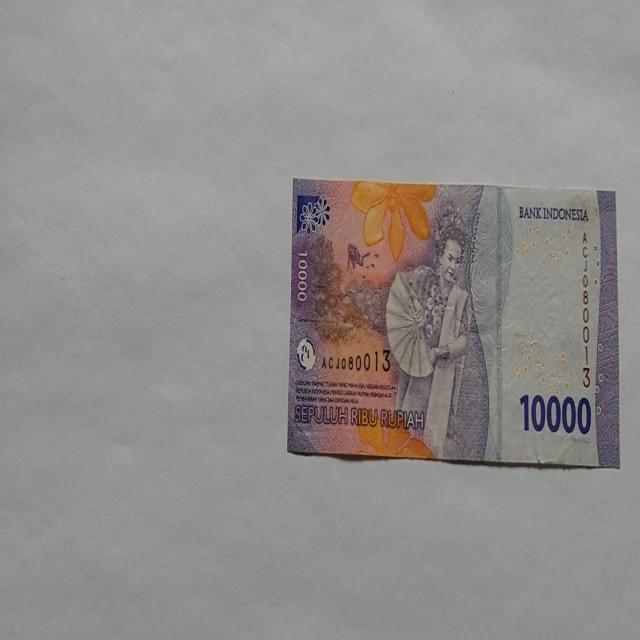sepuluh ribu rupiah: (286, 177, 620, 467)
